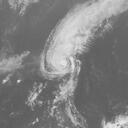cyclone: (43, 35, 79, 78)
